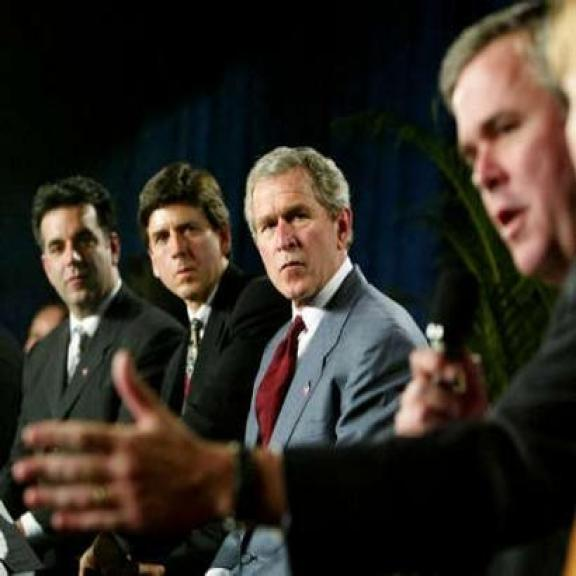face: (446, 50, 576, 292), (248, 169, 356, 299), (35, 203, 123, 307), (146, 208, 230, 306)
